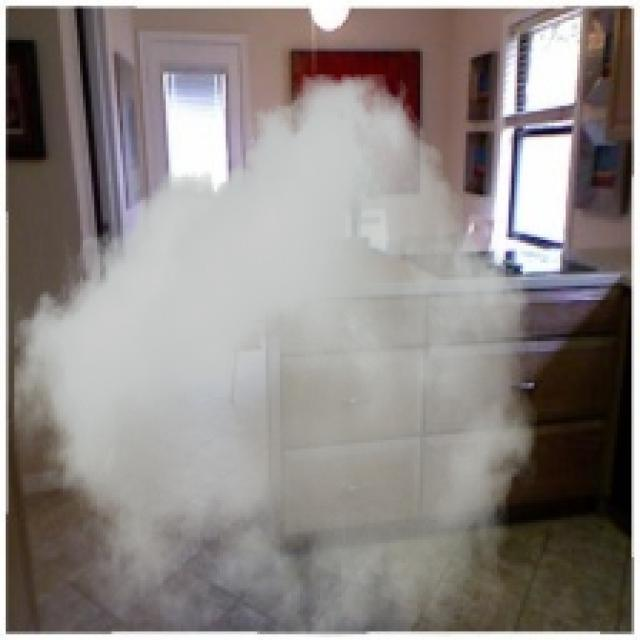Smoke: (14, 74, 537, 637)
